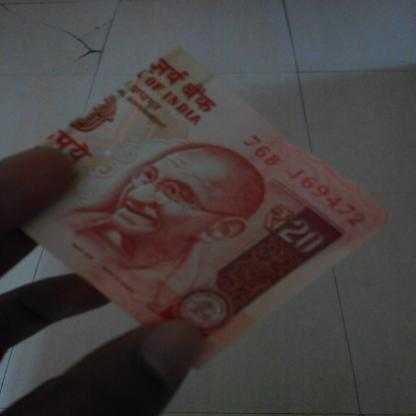Old20Front: (20, 49, 390, 370)
